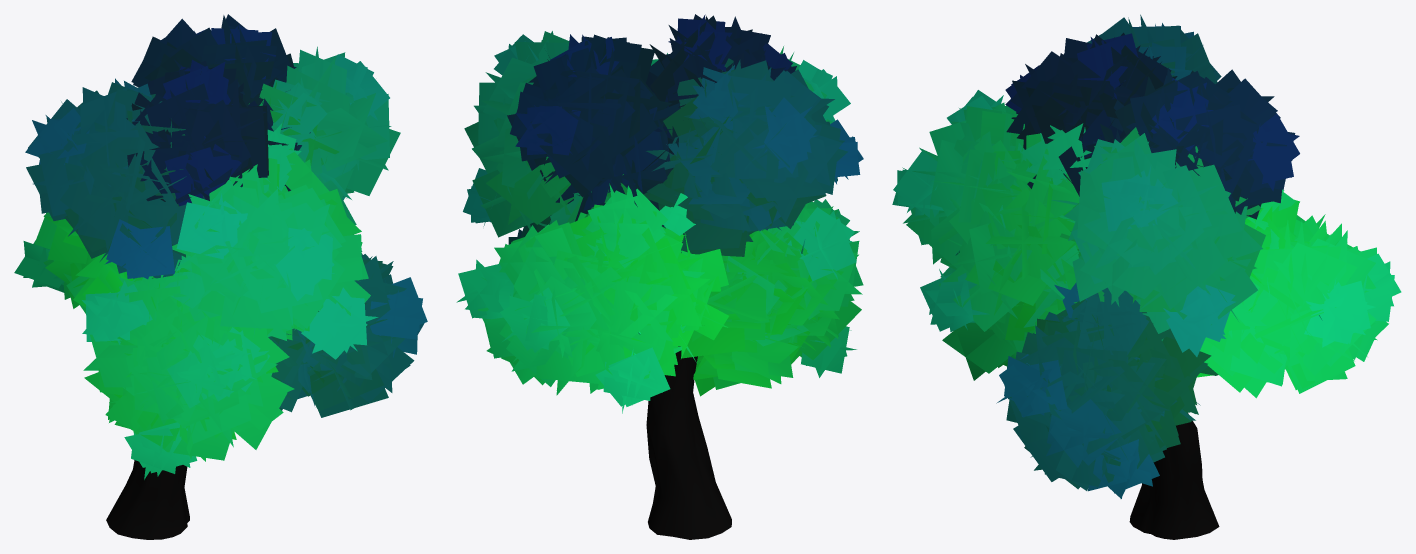
The model's file is OakTree_LOD1.fbx.
The picture shows the model from 3 angles, left to right: view 1: azimuth 30°, elevation 25°; view 2: azimuth 150°, elevation 25°; view 3: azimuth 270°, elevation 25°; orthographic projection. The views are drawn at different scales.
Visible parts, largest first — view 1: Tree_0Shape; view 2: Tree_0Shape; view 3: Tree_0Shape.
Boxes of the visible parts, x1,y1,x2,y2 form: Tree_0Shape: [14, 14, 427, 539]; Tree_0Shape: [456, 14, 863, 539]; Tree_0Shape: [892, 14, 1401, 539].
Bounding box in the file's own units: 340 × 445 × 415.
